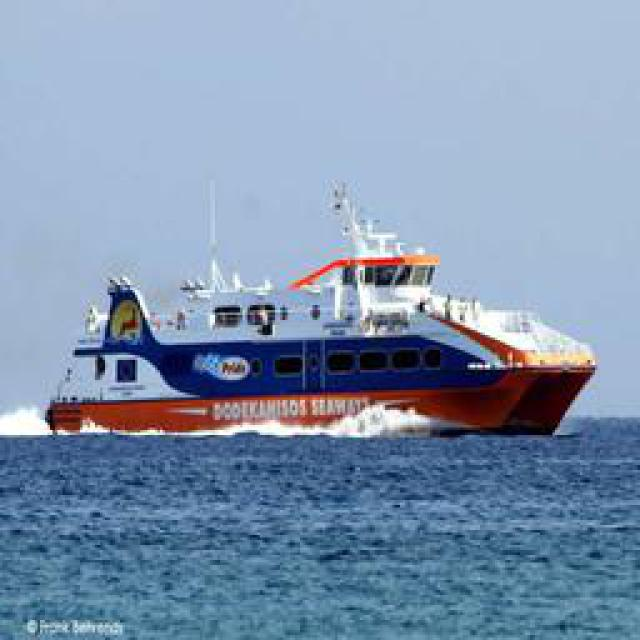Ship: (37, 169, 597, 434)
